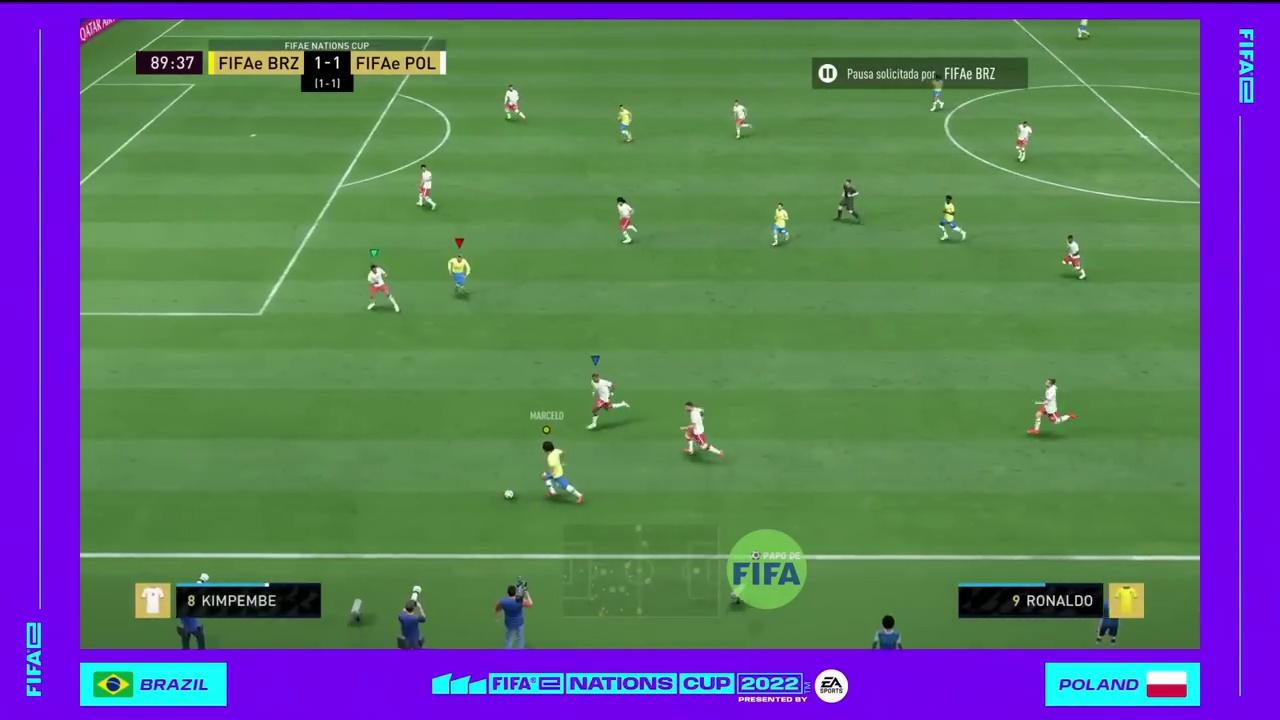scoreboard: (208, 49, 448, 78)
timestamp: (136, 49, 203, 76)
